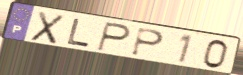0: (202, 39, 231, 69)
1: (177, 34, 193, 66)
L: (65, 17, 92, 49)
P: (95, 20, 133, 54), (129, 26, 166, 58)
X: (29, 10, 67, 46)
